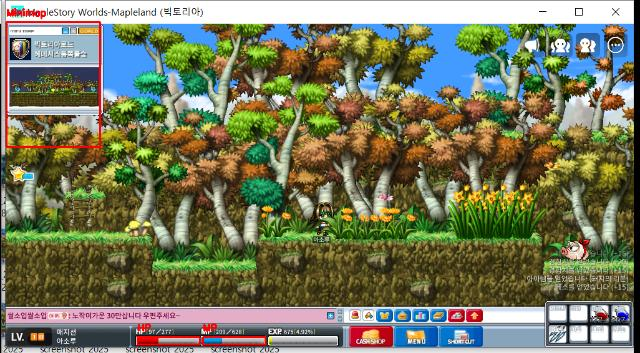me: (314, 196, 332, 246)
pig: (560, 237, 590, 261)
